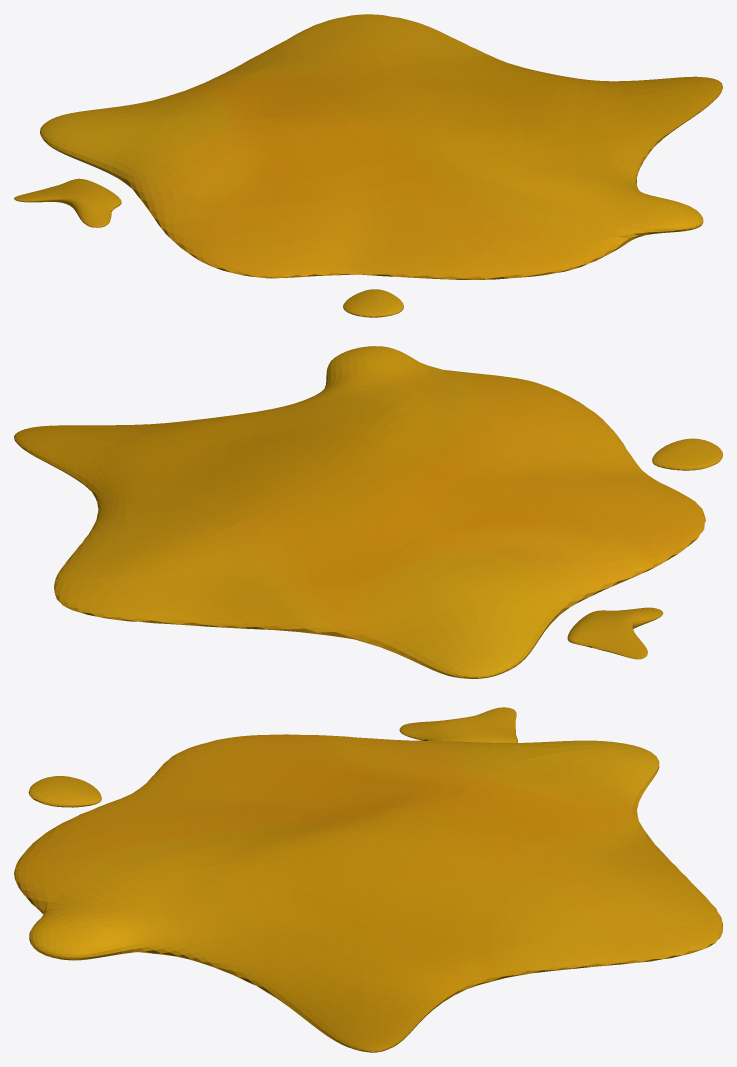
The model's file is mustard-splash.obj.
3 views of the same model, one above another, from view 1: azimuth 30°, elevation 25°; view 2: azimuth 150°, elevation 25°; view 3: azimuth 270°, elevation 25° (orthographic). The views are drawn at different scales.
Visible parts, largest first — view 1: Icosphere; view 2: Icosphere; view 3: Icosphere.
Boxes of the visible parts, box(x1,y1,x2,y2) form: Icosphere: box(14, 14, 722, 317); Icosphere: box(14, 346, 722, 678); Icosphere: box(14, 707, 722, 1052).
Bounding box in the file's own units: 4.87 × 0.3747 × 4.17.
Materials: 1 (1 with a texture image).
